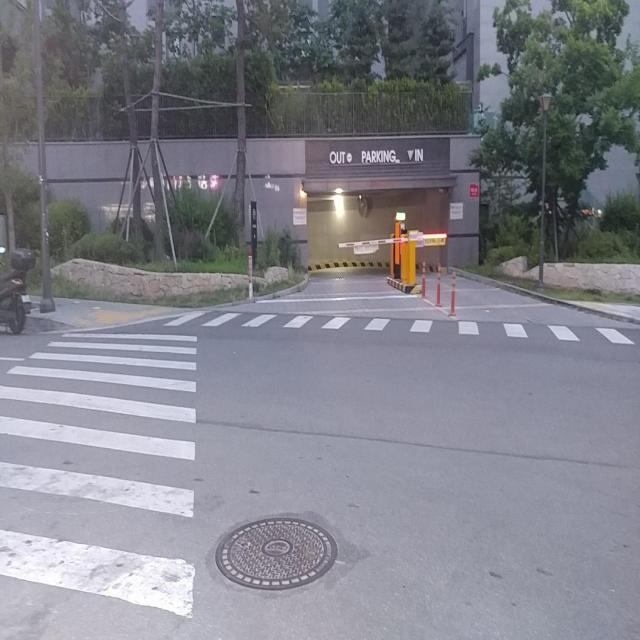횡단보도: (0, 330, 199, 621), (147, 308, 640, 348)
